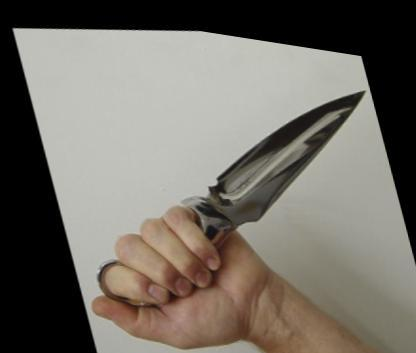knife: (109, 39, 415, 322)
